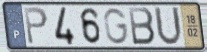4: (54, 6, 78, 47)
6: (78, 7, 102, 46)
B: (127, 6, 157, 47)
G: (102, 7, 130, 45)
P: (22, 6, 50, 46)
U: (153, 5, 184, 48)
